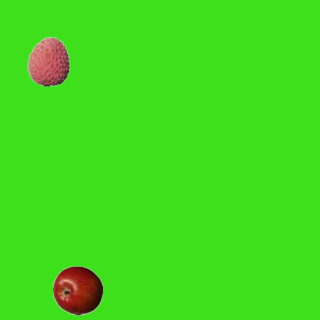Apple Braeburn: (52, 265, 102, 315)
Lychee: (23, 36, 73, 86)
